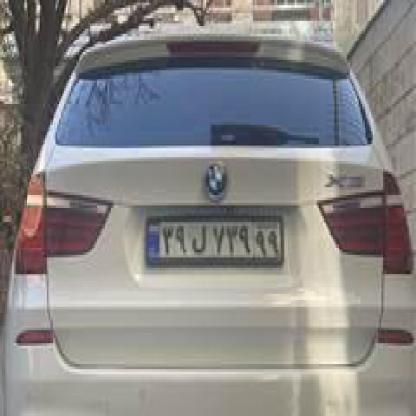car: (15, 0, 415, 414)
